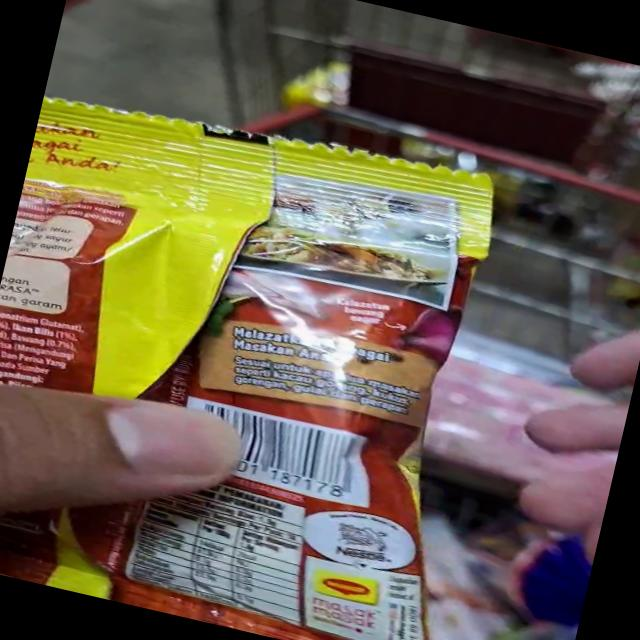Maggi Cukup Rasa: (0, 84, 522, 488), (0, 326, 497, 640)
